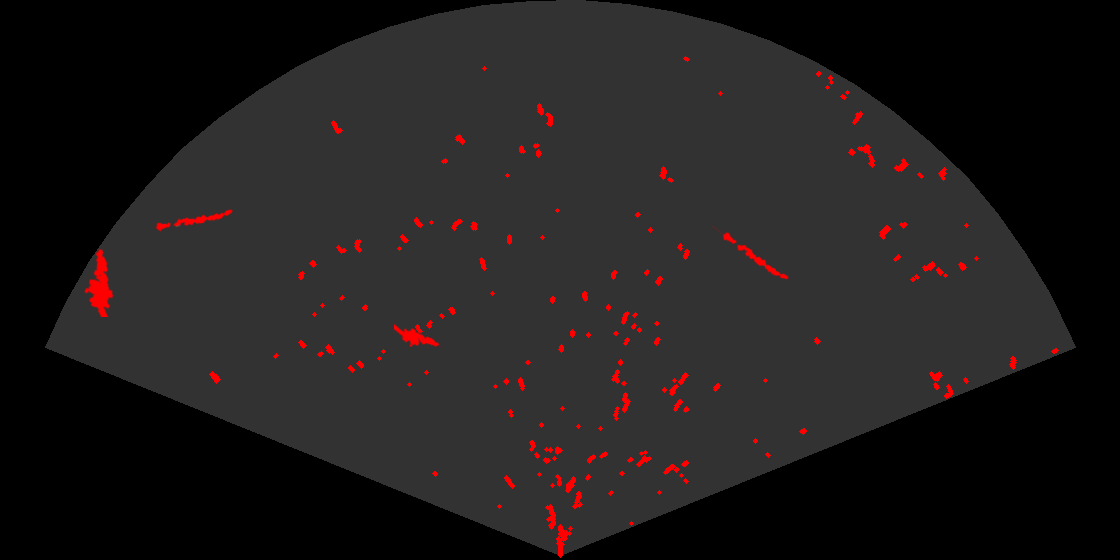chain: (712, 226, 790, 281), (154, 208, 235, 233)
frogman: (83, 247, 115, 317), (394, 323, 441, 349)
